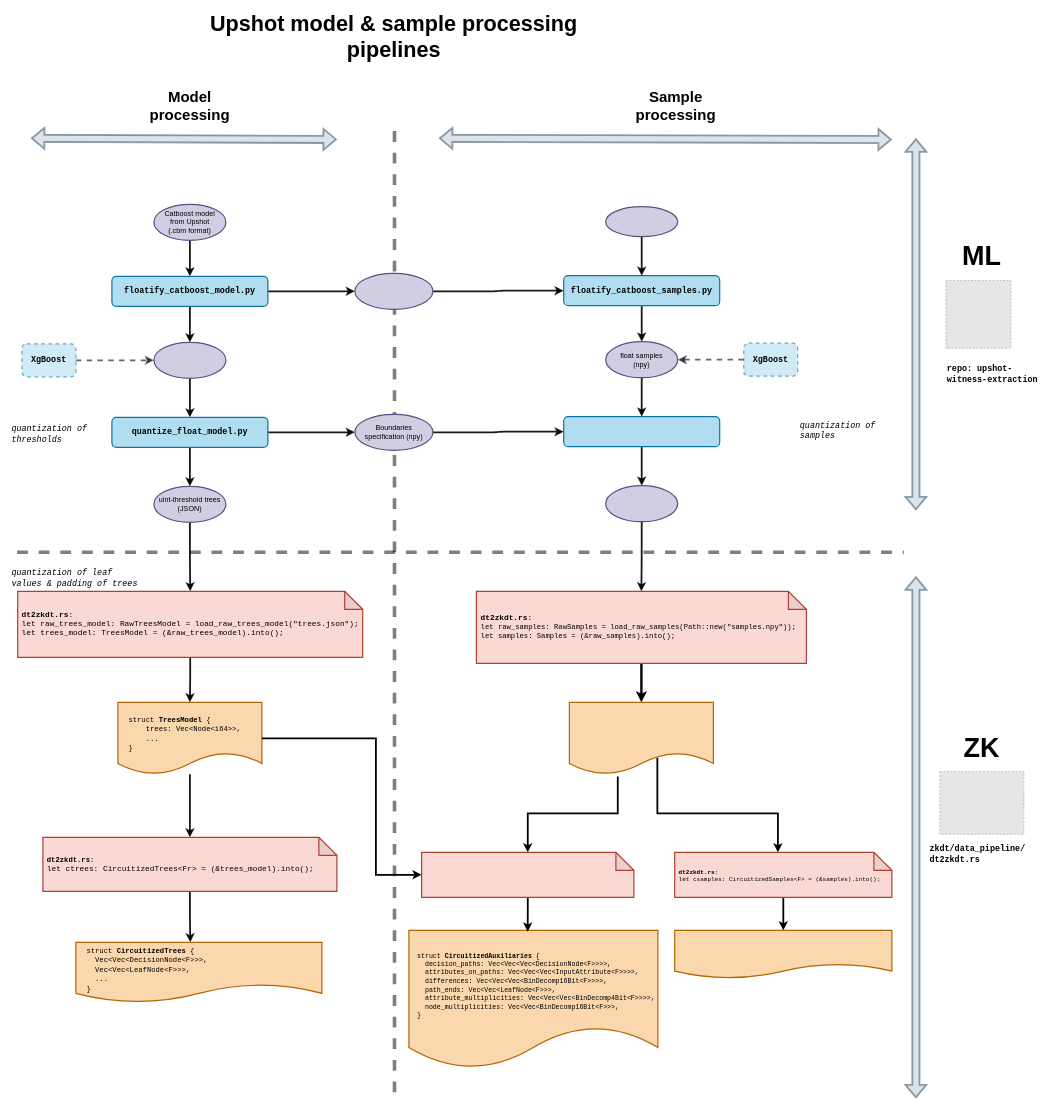
Some shapes in this 1057 by 1108 pixel diagram are drawn without their labels. Grey dashed boxes stand in for pictures. Here are the shapes that lost their labels. From the top down, the centre of each, then its label:
At pixel 641 221: "Samples from Upshot (parquet)".
At pixel 393 291: "Feature specification (pickle)".
At pixel 189 360: "float-threshold trees (JSON)".
At pixel 641 431: "quantize_float_samples.py".
At pixel 641 503: "uint samples (npy)".
At pixel 641 738: "struct Samples { values: Vec<Vec<u16>>, ... }".
At pixel 527 874: "dt2zkdt.rs : circuitize_auxiliaries::<Fr>(&samples, &trees_model);".
At pixel 783 954: "type CircuitizedSamples<F> = Vec<Vec<InputAttribute<F>>>;".
